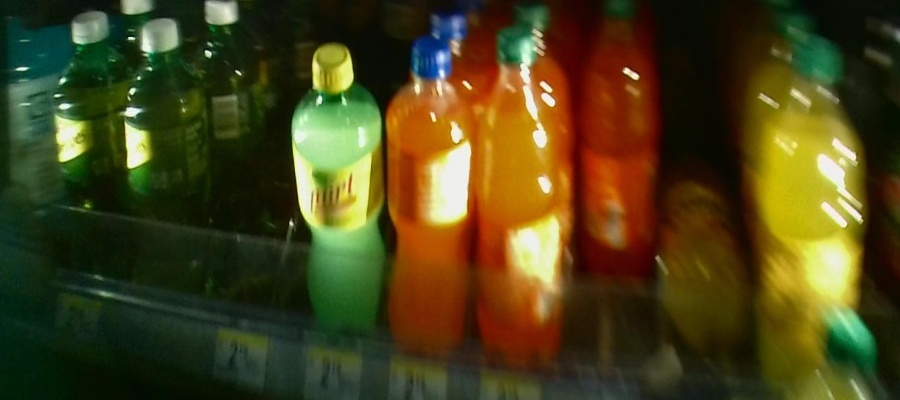bottle: (754, 36, 860, 389), (478, 24, 571, 369), (383, 40, 473, 358), (290, 42, 381, 346), (123, 8, 210, 266), (574, 14, 655, 277), (50, 9, 122, 270), (670, 214, 749, 377)
